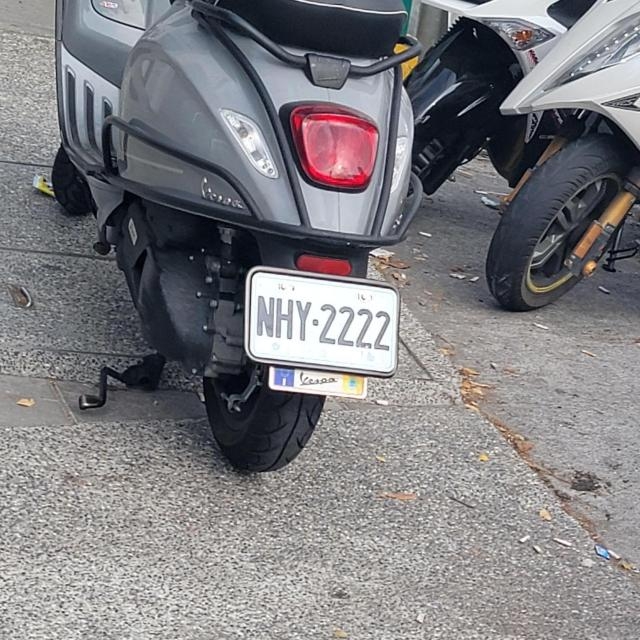W: (237, 262, 406, 383)
